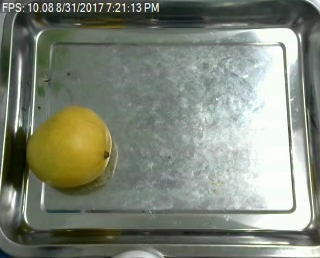Mango: (24, 104, 114, 186)
